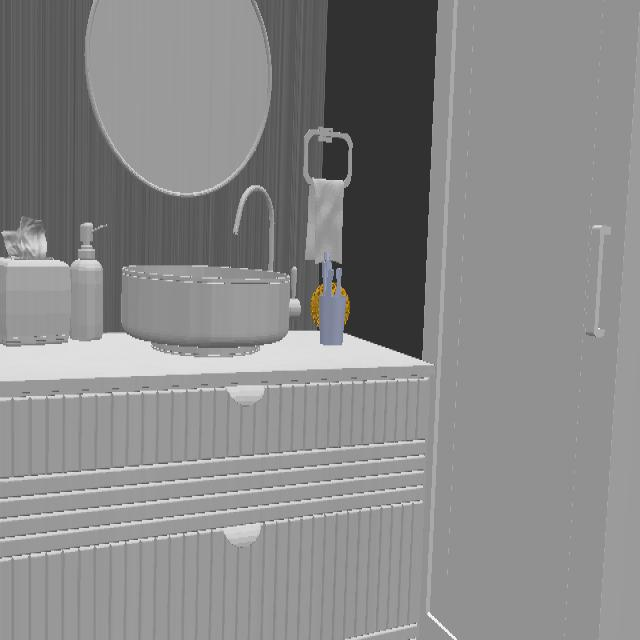cabinet: (0, 0, 640, 640)
washbasin: (120, 185, 290, 357)
